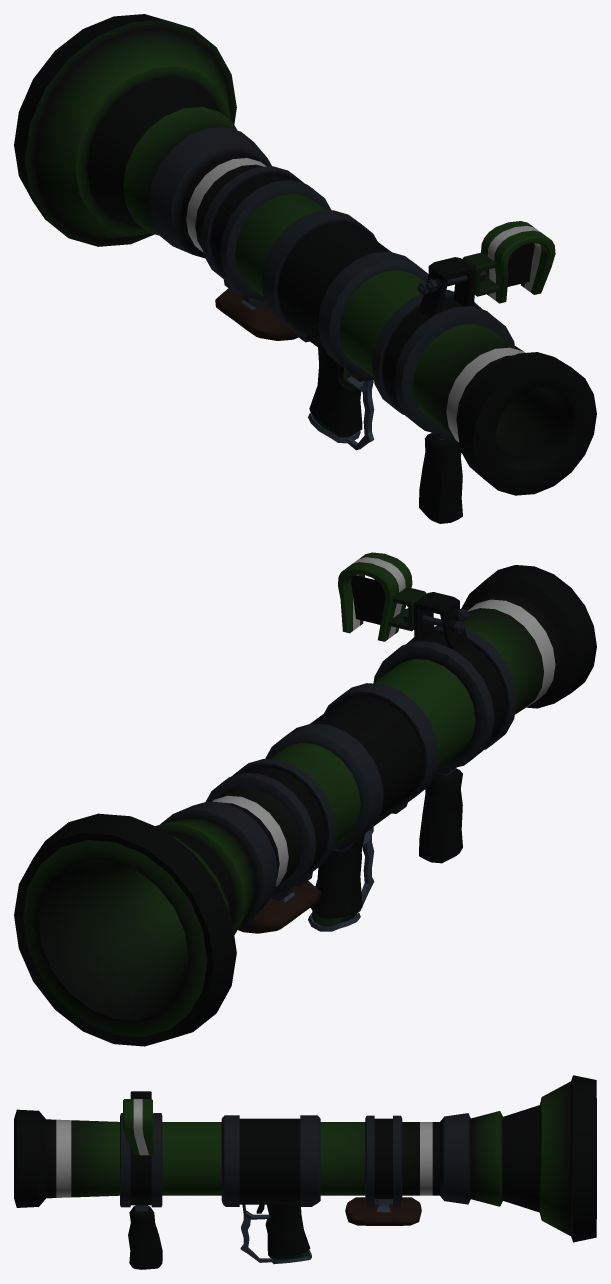
Rendered from rpg_w.fbx.
3 renders of one model, top to bottom at view 1: azimuth 30°, elevation 25°; view 2: azimuth 150°, elevation 25°; view 3: azimuth 270°, elevation 25°, orthographic. The views are drawn at different scales.
Parts seen in each view (by area): view 1: pCube5; view 2: pCube5; view 3: pCube5.
Part boxes in pixels (bbox=[...]): pCube5: bbox=[14, 14, 596, 523]; pCube5: bbox=[14, 552, 596, 1046]; pCube5: bbox=[14, 1075, 596, 1269].
Size of the model in its own units: 27.2 by 33.43 by 94.02.
